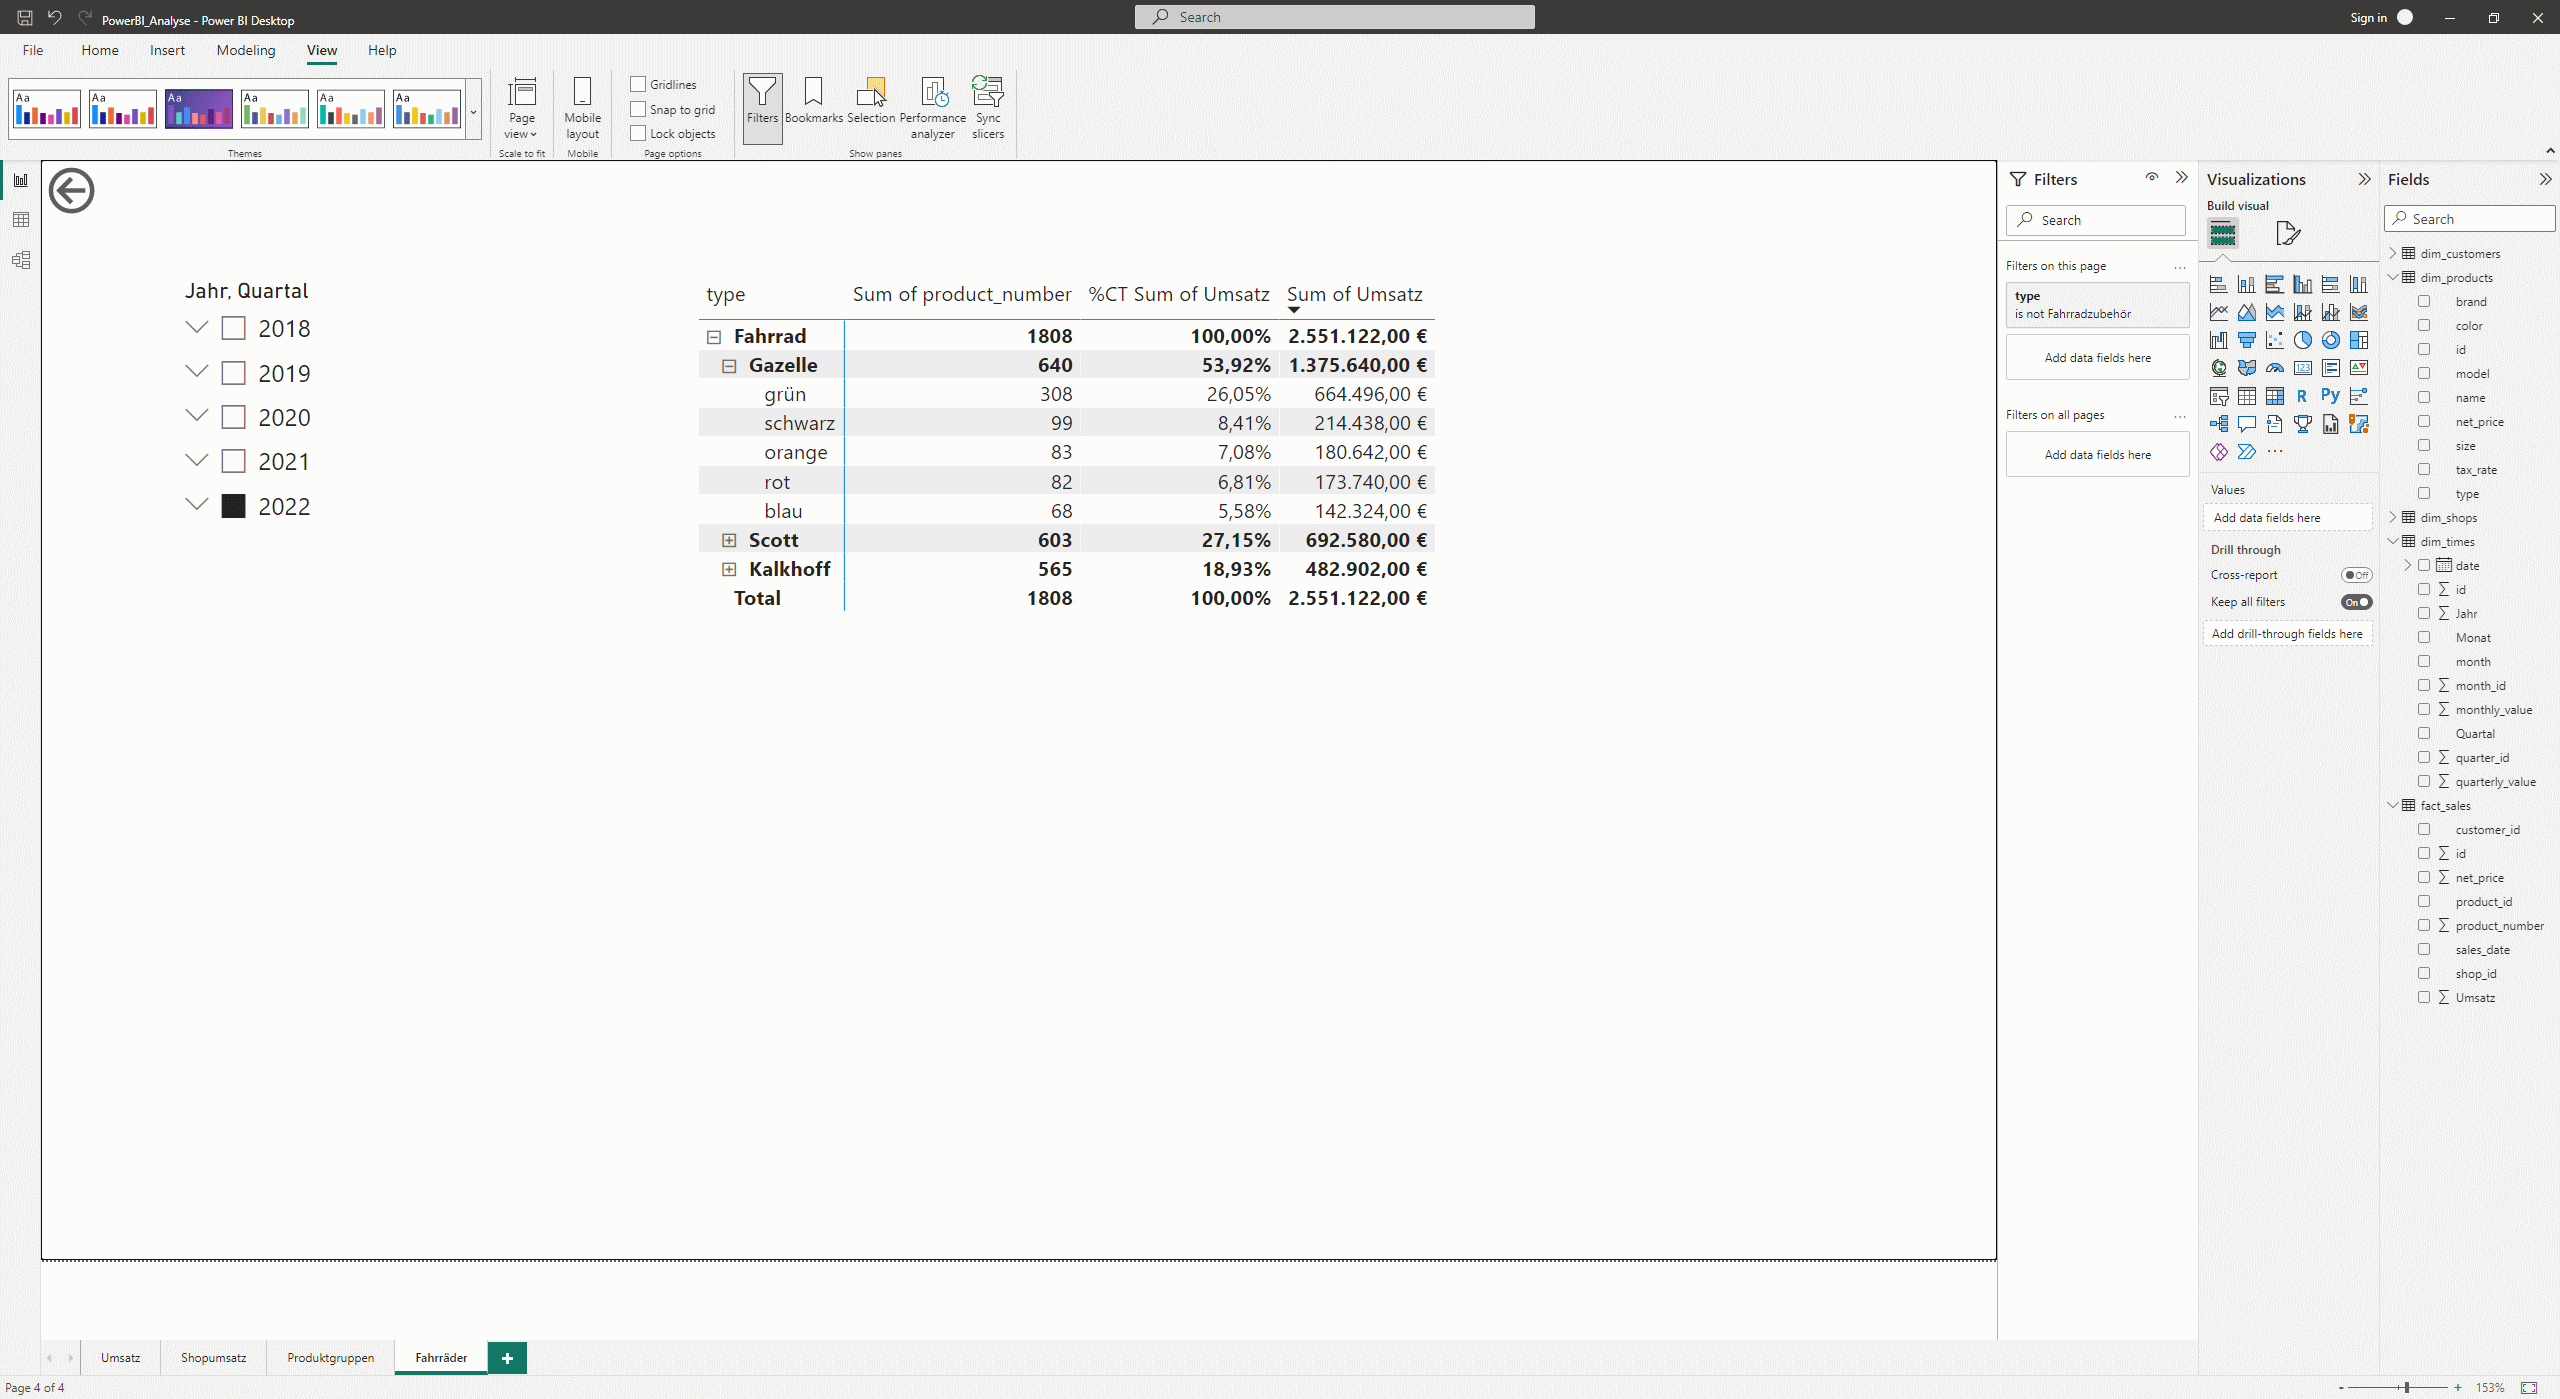

This screenshot's page, from the dashboard's own definition file:
{"tool":"powerbi","page":{"name":"Fahrräder","canvas":[1280,720],"ordinal":3},"visuals":[{"type":"pivotTable","fields":{"Rows":["dim_products.type","dim_products.brand","dim_products.color"],"Values":["Sum(fact_sales.product_number)","Divide(Sum(fact_sales.Umsatz), ScopedEval(Sum(fact_sales.Umsatz), [Role.Columns]))","Sum(fact_sales.Umsatz)"]},"box":[425.4,72,591.6,445],"z":0},{"type":"slicer","fields":{"Values":["dim_times.Jahr","dim_times.Quartal"]},"box":[81.1,72,300.4,505.2],"z":2000}]}

Visuals, with their boxes on the page's 1280x720 design canvas (x1, y1, x2, y2). These are canvas units, not pixel positions in the 2560x1399 screenshot, which may show the page scaled, cropped or inside an application window:
pivotTable - dim_products.type x dim_products.brand: 425,72,1017,517
slicer - dim_times.Jahr x dim_times.Quartal: 81,72,382,577
